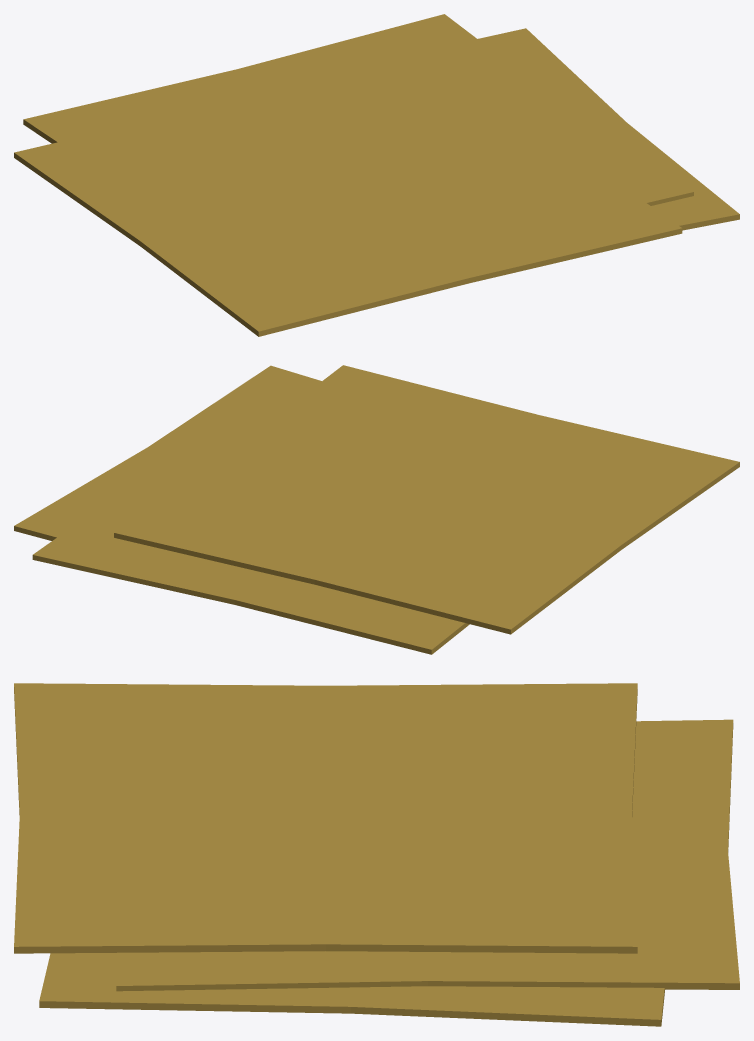
File: Cheese_Singles.glb
3 views of the same model, one above another, from view 1: azimuth 30°, elevation 25°; view 2: azimuth 150°, elevation 25°; view 3: azimuth 270°, elevation 25° (orthographic). The views are drawn at different scales.
Parts seen in each view (by area): view 1: Cheese_Singles; view 2: Cheese_Singles; view 3: Cheese_Singles.
Part boxes in pixels (x1,y1,x2,y2): Cheese_Singles: (14,14,739,336); Cheese_Singles: (14,365,739,654); Cheese_Singles: (14,683,739,1026).
Size of the model in its own units: 0.1773 by 0.00488 by 0.1677.
